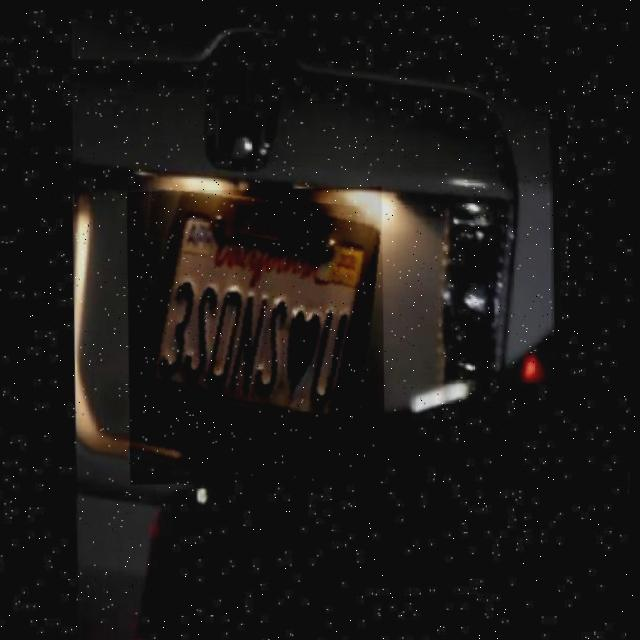LicensePlate: (131, 190, 383, 479)
